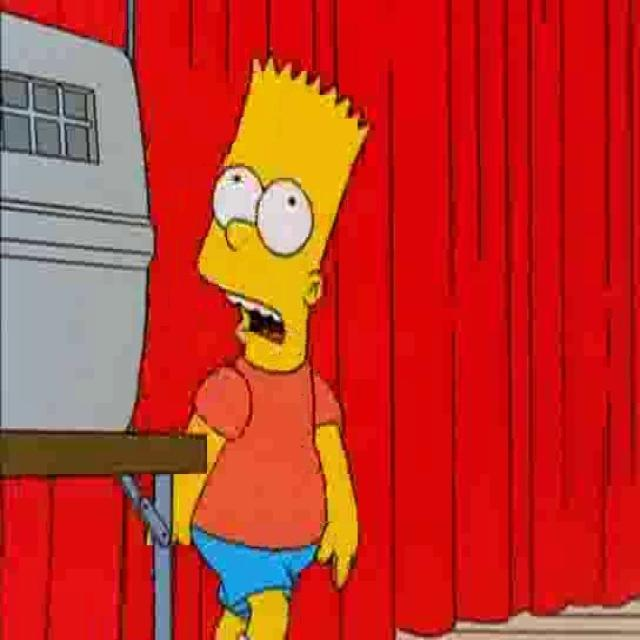Bart Simpson: (197, 52, 372, 378)
